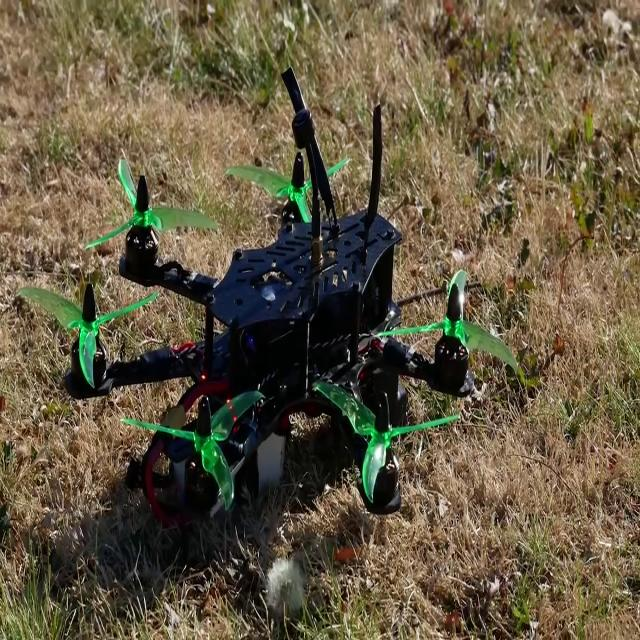drone: (64, 119, 489, 566)
